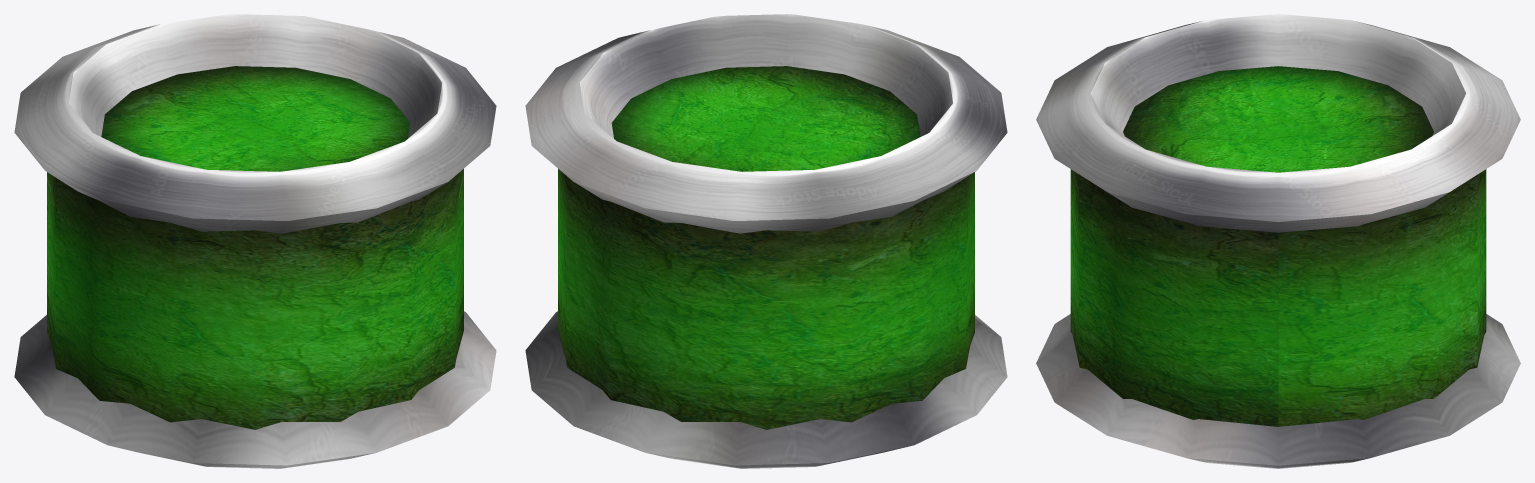
The model's file is static.glb.
The picture shows the model from 3 angles, left to right: view 1: azimuth 30°, elevation 25°; view 2: azimuth 150°, elevation 25°; view 3: azimuth 270°, elevation 25°; orthographic projection.
Parts seen in each view (by area): view 1: Cylinder, Disc, Disc_2; view 2: Cylinder, Disc, Disc_2; view 3: Cylinder, Disc, Disc_2.
Part boxes in pixels (x1,y1,x2,y2): Cylinder: (47, 66, 463, 429); Disc: (14, 14, 496, 233); Disc_2: (14, 311, 496, 468); Cylinder: (558, 66, 974, 429); Disc: (525, 14, 1007, 233); Disc_2: (525, 311, 1007, 468); Cylinder: (1070, 66, 1486, 426); Disc: (1036, 14, 1520, 232); Disc_2: (1036, 314, 1520, 468).
Bounding box in the file's own units: 0.8166 × 0.5506 × 0.8166.
3 materials, 3 textured.
